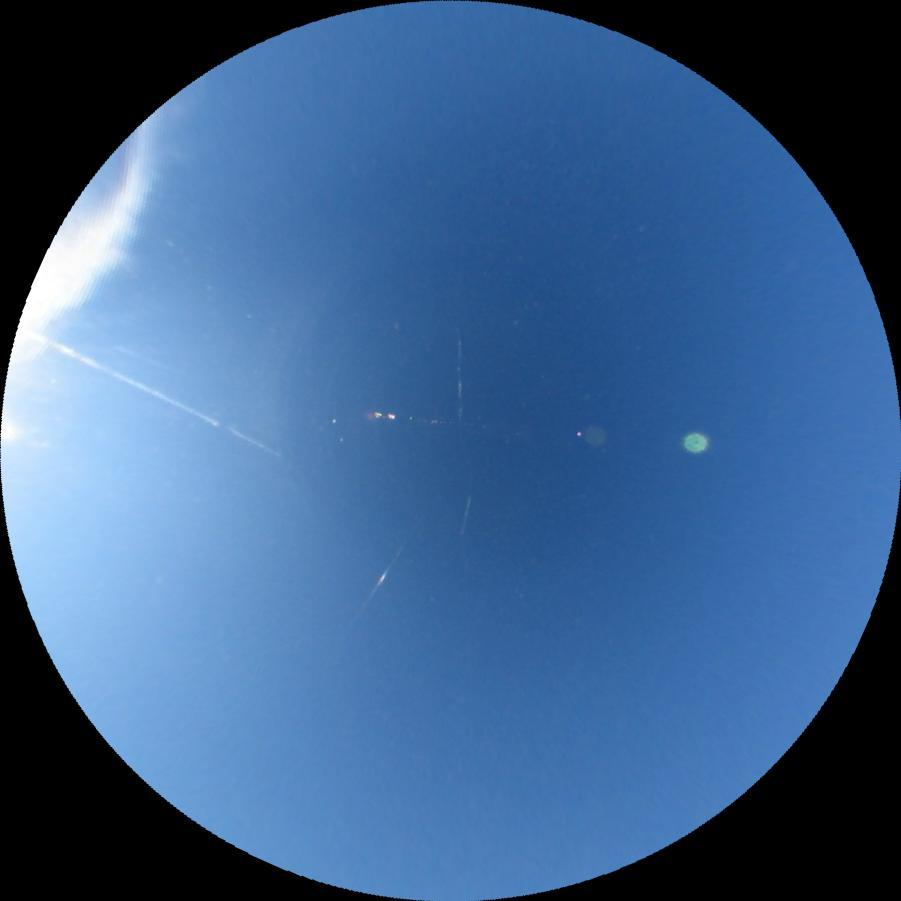parasite: (47, 338, 280, 458), (355, 539, 406, 618), (110, 344, 175, 373), (457, 337, 464, 424), (459, 494, 471, 540)
